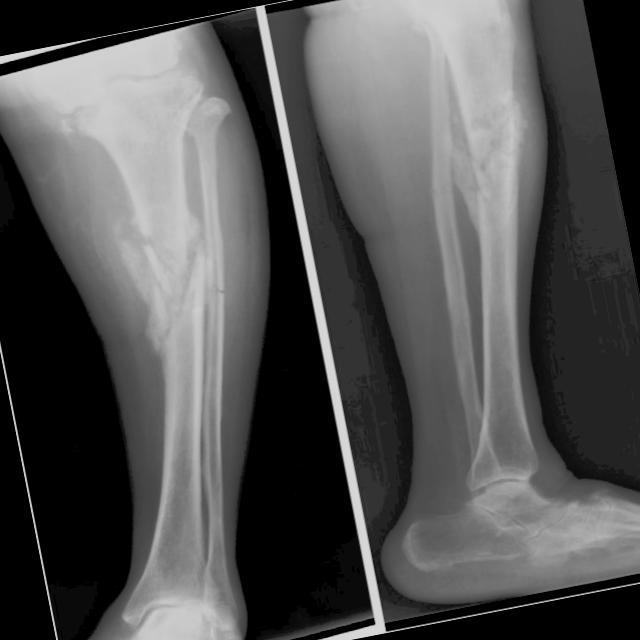HairLine Fracture: (139, 207, 225, 358), (465, 105, 520, 201), (430, 172, 459, 200)
